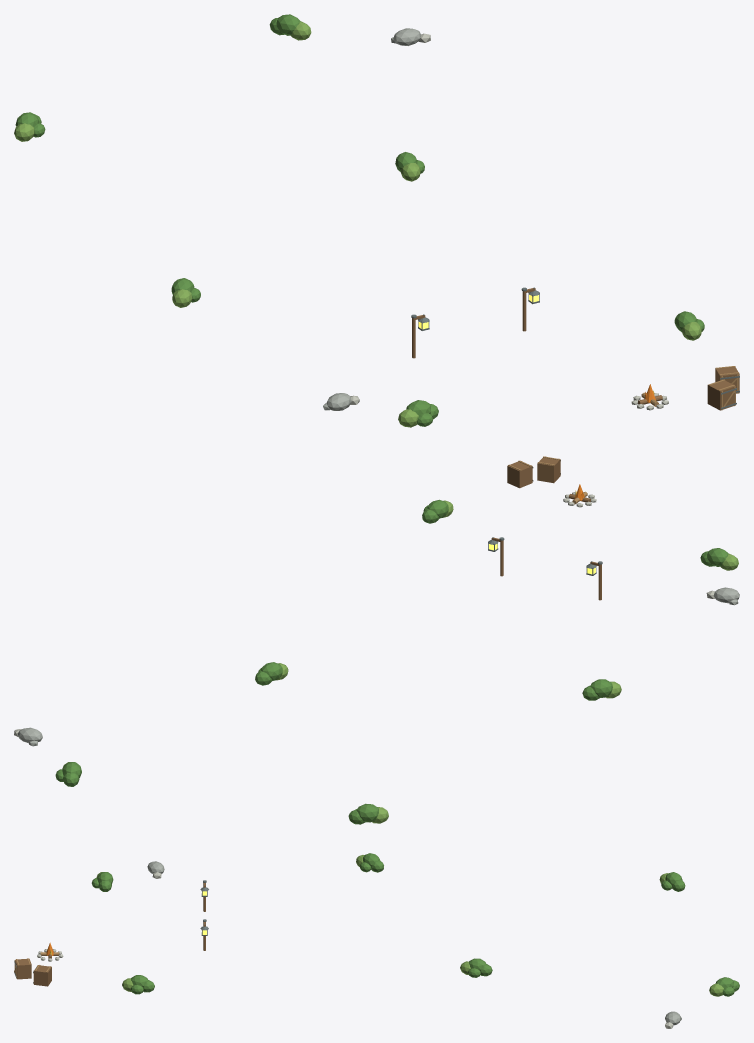
Rendered from world-props.glb.
The picture shows the model from 3 angles, top to bottom: view 1: azimuth 30°, elevation 25°; view 2: azimuth 150°, elevation 25°; view 3: azimuth 270°, elevation 25°; orthographic projection. The views are drawn at different scales.
Parts seen in each view (by area): view 1: world-props-deep-foliage, world-props-foliage-highlights, world-props-warm-wood, world-props-soft-grey-stone; view 2: world-props-deep-foliage, world-props-warm-wood, world-props-foliage-highlights, world-props-soft-grey-stone; view 3: world-props-deep-foliage, world-props-warm-wood, world-props-foliage-highlights, world-props-soft-grey-stone.
Part boxes in pixels (x1=…): world-props-deep-foliage: x1=15, y1=14, x2=704, y2=426; world-props-foliage-highlights: x1=14, y1=21, x2=701, y2=427; world-props-warm-wood: x1=412, y1=288, x2=739, y2=410; world-props-soft-grey-stone: x1=323, y1=28, x2=421, y2=410; world-props-deep-foliage: x1=55, y1=499, x2=728, y2=824; world-props-warm-wood: x1=491, y1=457, x2=601, y2=600; world-props-foliage-highlights: x1=62, y1=500, x2=738, y2=823; world-props-soft-grey-stone: x1=17, y1=587, x2=739, y2=746; world-props-deep-foliage: x1=91, y1=853, x2=739, y2=996; world-props-warm-wood: x1=15, y1=883, x2=205, y2=986; world-props-foliage-highlights: x1=96, y1=855, x2=723, y2=996; world-props-soft-grey-stone: x1=147, y1=861, x2=681, y2=1025.
Bounding box in the file's own units: 22.04 × 1.92 × 40.84.
